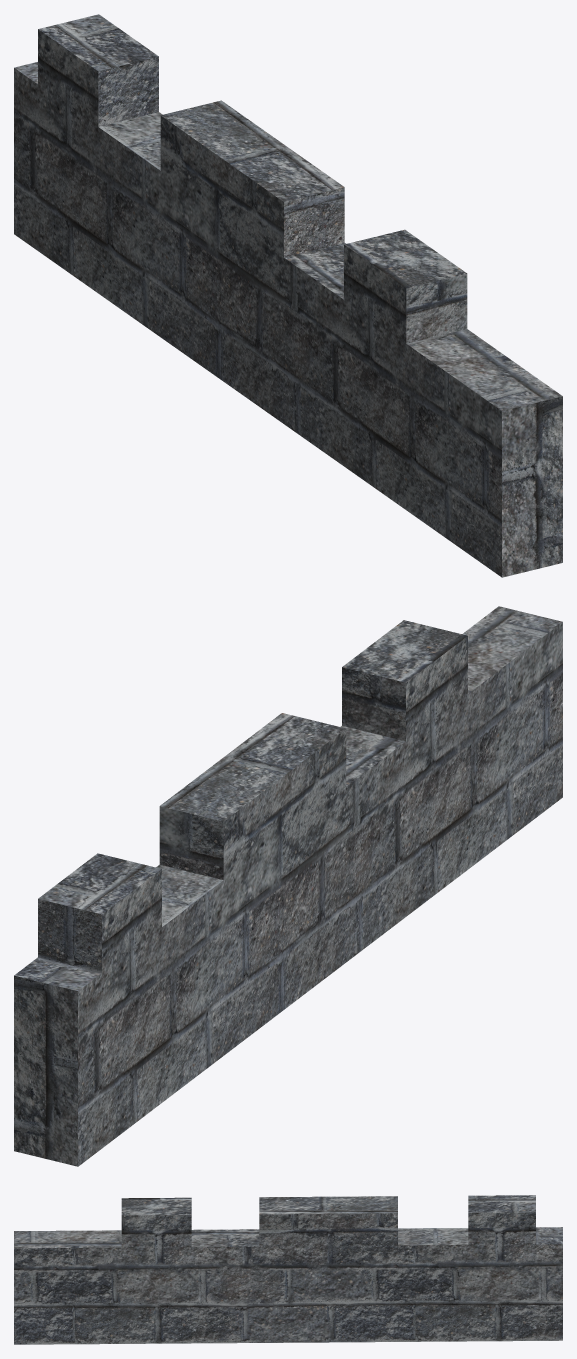
File: StoneWallA_LOD.fbx
3 renders of one model, top to bottom at view 1: azimuth 30°, elevation 25°; view 2: azimuth 150°, elevation 25°; view 3: azimuth 270°, elevation 25°, orthographic. The views are drawn at different scales.
Visible parts, largest first — view 1: StoneWallA_LOD; view 2: StoneWallA_LOD; view 3: StoneWallA_LOD.
Part boxes in pixels (<box>): StoneWallA_LOD: <box>14,14,562,577</box>; StoneWallA_LOD: <box>14,606,562,1166</box>; StoneWallA_LOD: <box>14,1195,562,1344</box>.
Size of the model in its own units: 53.72 by 152 by 588.
